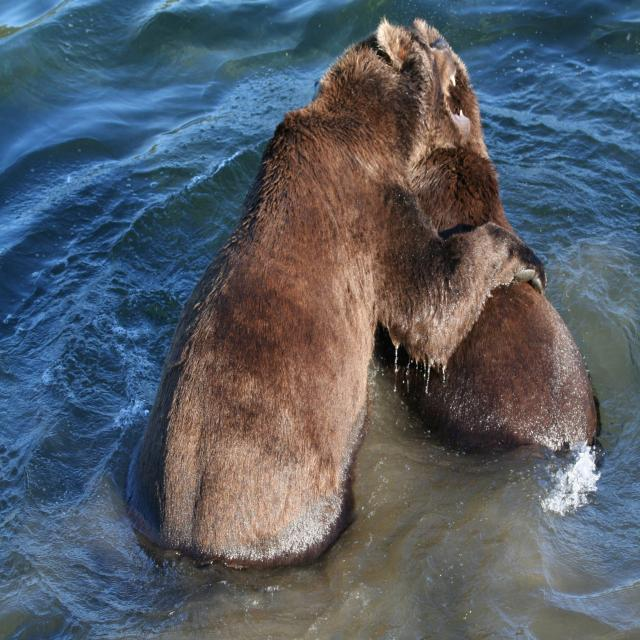bear face: (160, 18, 472, 547), (397, 13, 599, 449)
